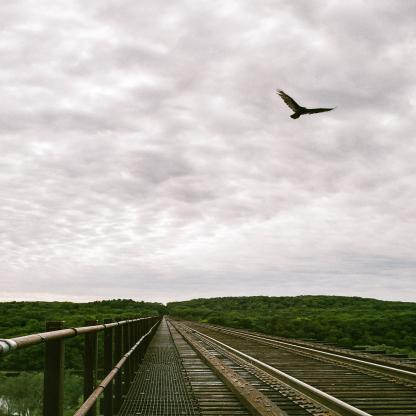bird: (276, 88, 338, 120)
